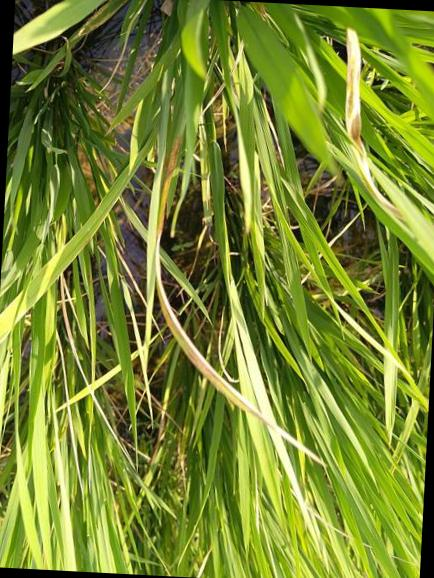Leaf Streak: (155, 135, 298, 445), (79, 0, 122, 33)
